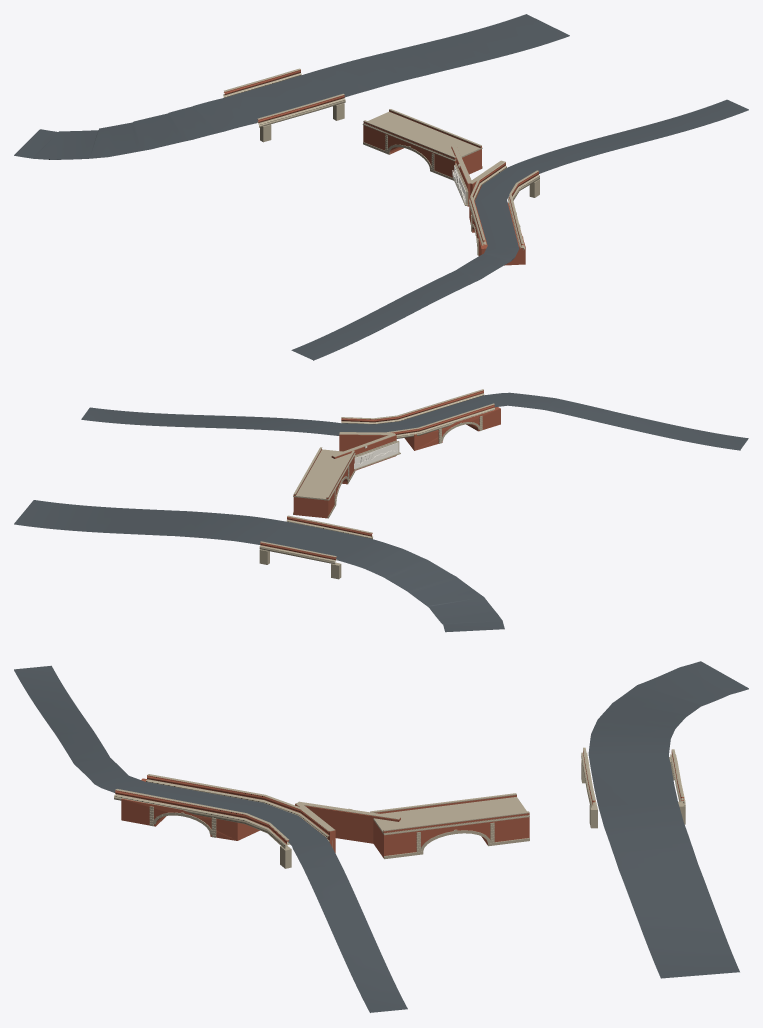
The model's file is ponts-jumeaux-far.glb.
The picture shows the model from 3 angles, top to bottom: view 1: azimuth 30°, elevation 25°; view 2: azimuth 150°, elevation 25°; view 3: azimuth 270°, elevation 25°; orthographic projection. The views are drawn at different scales.
Visible parts, largest first — view 1: north-ponts-jumeaux-0-asphalt, south-ponts-jumeaux-0-asphalt, heritage-ponts-jumeaux-0-stone, heritage-ponts-jumeaux-0-brick, north-ponts-jumeaux-0-stone, south-ponts-jumeaux-0-stone, south-ponts-jumeaux-0-brick, north-ponts-jumeaux-0-brick; view 2: north-ponts-jumeaux-0-asphalt, south-ponts-jumeaux-0-asphalt, heritage-ponts-jumeaux-0-stone, heritage-ponts-jumeaux-0-brick, south-ponts-jumeaux-0-brick, south-ponts-jumeaux-0-stone, north-ponts-jumeaux-0-stone, north-ponts-jumeaux-0-brick, heritage-ponts-jumeaux-0-marble; view 3: north-ponts-jumeaux-0-asphalt, south-ponts-jumeaux-0-asphalt, heritage-ponts-jumeaux-0-stone, heritage-ponts-jumeaux-0-brick, south-ponts-jumeaux-0-brick, south-ponts-jumeaux-0-stone, north-ponts-jumeaux-0-stone.
Part boxes in pixels (bbox=[...]): north-ponts-jumeaux-0-asphalt: bbox=[14, 14, 569, 159]; south-ponts-jumeaux-0-asphalt: bbox=[291, 99, 748, 360]; heritage-ponts-jumeaux-0-stone: bbox=[362, 109, 503, 205]; heritage-ponts-jumeaux-0-brick: bbox=[363, 110, 481, 206]; north-ponts-jumeaux-0-stone: bbox=[223, 68, 345, 142]; south-ponts-jumeaux-0-stone: bbox=[469, 161, 539, 255]; south-ponts-jumeaux-0-brick: bbox=[469, 162, 538, 265]; north-ponts-jumeaux-0-brick: bbox=[224, 69, 344, 122]; north-ponts-jumeaux-0-asphalt: bbox=[14, 500, 504, 632]; south-ponts-jumeaux-0-asphalt: bbox=[81, 392, 748, 450]; heritage-ponts-jumeaux-0-stone: bbox=[293, 433, 400, 518]; heritage-ponts-jumeaux-0-brick: bbox=[293, 434, 396, 518]; south-ponts-jumeaux-0-brick: bbox=[341, 390, 500, 450]; south-ponts-jumeaux-0-stone: bbox=[339, 389, 494, 443]; north-ponts-jumeaux-0-stone: bbox=[259, 515, 372, 579]; north-ponts-jumeaux-0-brick: bbox=[260, 516, 372, 560]; heritage-ponts-jumeaux-0-marble: bbox=[354, 442, 398, 468]; north-ponts-jumeaux-0-asphalt: bbox=[588, 661, 748, 978]; south-ponts-jumeaux-0-asphalt: bbox=[14, 665, 407, 1012]; heritage-ponts-jumeaux-0-stone: bbox=[295, 793, 529, 859]; heritage-ponts-jumeaux-0-brick: bbox=[295, 795, 529, 858]; south-ponts-jumeaux-0-brick: bbox=[115, 775, 329, 844]; south-ponts-jumeaux-0-stone: bbox=[114, 774, 332, 868]; north-ponts-jumeaux-0-stone: bbox=[581, 747, 685, 828].
Bounding box in the file's own units: 140 × 5.46 × 124.
